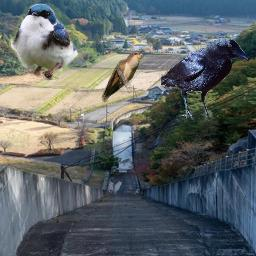Crow: (161, 38, 248, 122)
Cuckoo: (100, 51, 145, 103)
Swallow: (9, 3, 97, 80)
